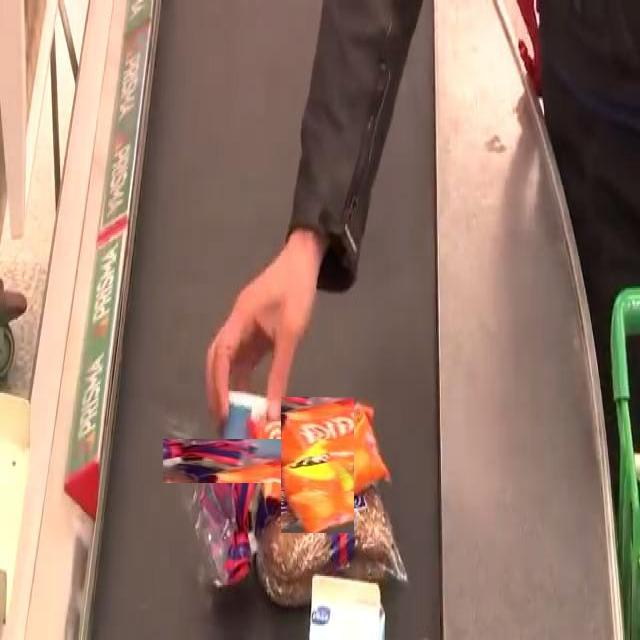beverage: (312, 576, 386, 640)
food-box: (252, 497, 397, 607), (196, 406, 307, 517), (264, 412, 370, 518)
